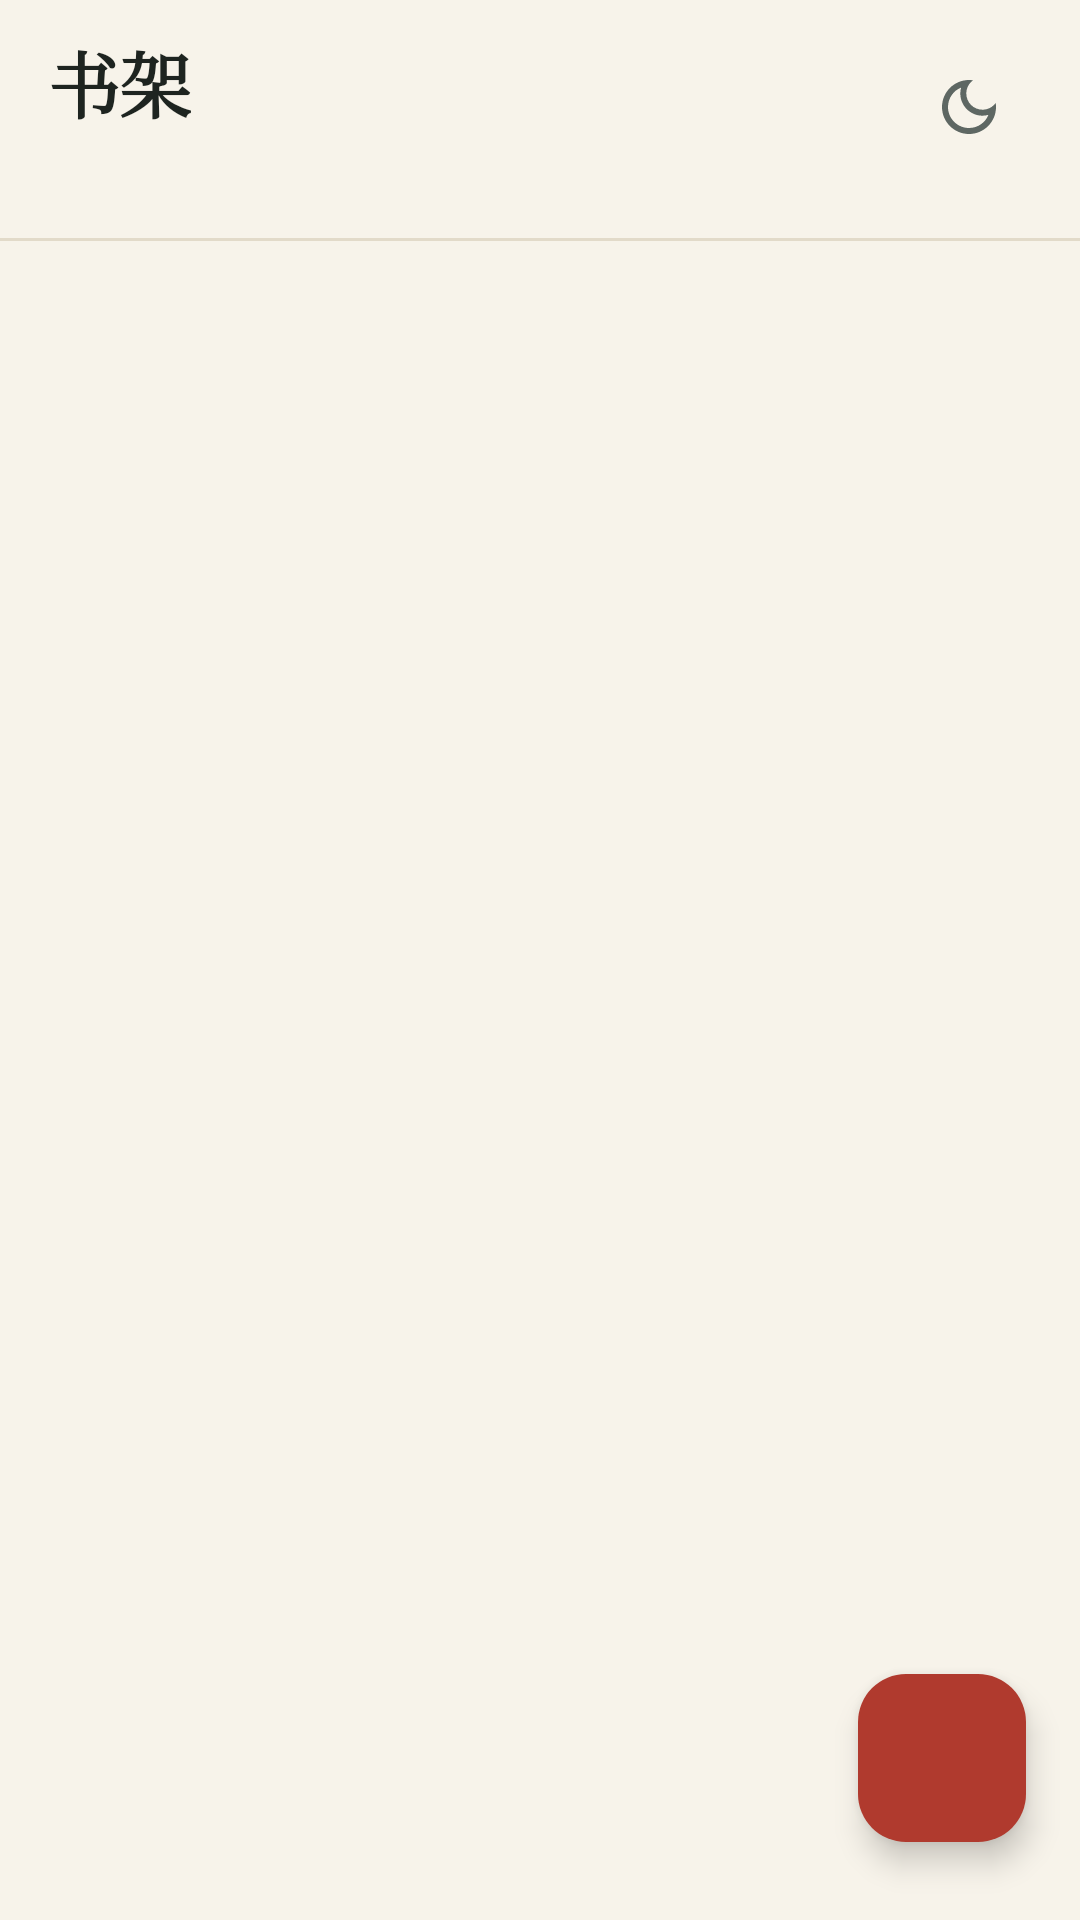

Screen size 1080px x 1920px. Icon name, then its box in pixels as (x1, y1, x2, y2):
主题: (942, 80, 996, 134)
